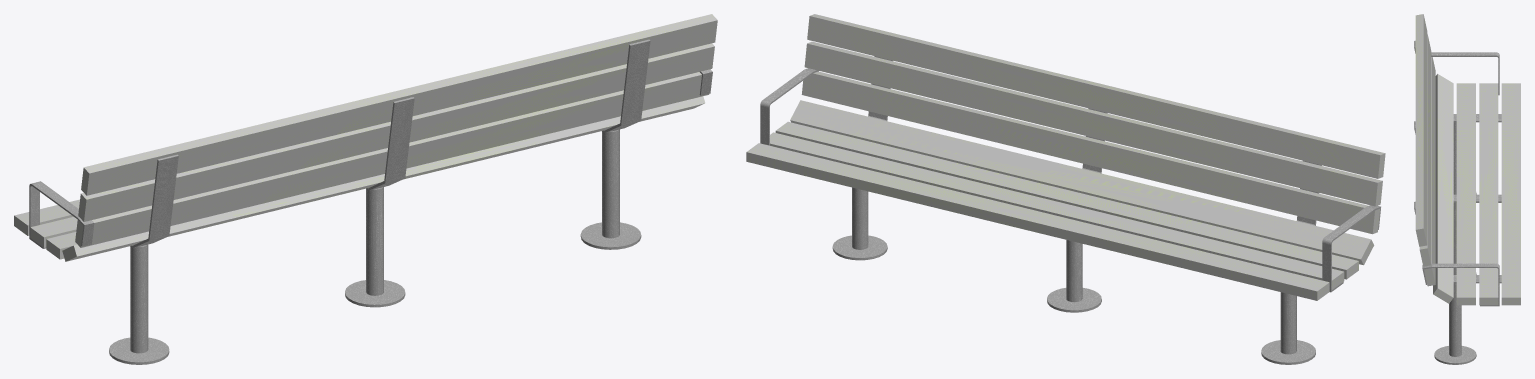
The picture shows the model from 3 angles, left to right: view 1: azimuth 30°, elevation 25°; view 2: azimuth 150°, elevation 25°; view 3: azimuth 270°, elevation 25°; orthographic projection. The views are drawn at different scales.
Visible parts, largest first — view 1: mesh13_mesh13-geometry, mesh7_mesh7-geometry, mesh8_mesh8-geometry, mesh9_mesh9-geometry, mesh3_mesh3-geometry, mesh5_mesh5-geometry, mesh2_mesh2-geometry, mesh6_mesh6-geometry, mesh4_mesh4-geometry, mesh1_mesh1-geometry, mesh16_mesh16-geometry, mesh12_mesh12-geometry (+1 smaller); view 2: mesh13_mesh13-geometry, mesh7_mesh7-geometry, mesh8_mesh8-geometry, mesh9_mesh9-geometry, mesh10_mesh10-geometry, mesh11_mesh11-geometry, mesh12_mesh12-geometry, mesh3_mesh3-geometry, mesh5_mesh5-geometry, mesh2_mesh2-geometry, mesh16_mesh16-geometry, mesh17_mesh17-geometry; view 3: mesh10_mesh10-geometry, mesh11_mesh11-geometry, mesh12_mesh12-geometry, mesh9_mesh9-geometry, mesh13_mesh13-geometry, mesh5_mesh5-geometry, mesh7_mesh7-geometry, mesh8_mesh8-geometry, mesh17_mesh17-geometry, mesh16_mesh16-geometry, mesh3_mesh3-geometry, mesh2_mesh2-geometry (+3 smaller).
Part boxes in pixels (x1,y1,x2,y2): mesh13_mesh13-geometry: (81, 14, 717, 195); mesh7_mesh7-geometry: (78, 43, 714, 221); mesh8_mesh8-geometry: (75, 72, 709, 247); mesh9_mesh9-geometry: (62, 96, 705, 261); mesh3_mesh3-geometry: (109, 244, 169, 364); mesh5_mesh5-geometry: (580, 129, 641, 249); mesh2_mesh2-geometry: (345, 187, 405, 307); mesh6_mesh6-geometry: (602, 39, 650, 132); mesh4_mesh4-geometry: (130, 154, 178, 247); mesh1_mesh1-geometry: (366, 97, 414, 190); mesh16_mesh16-geometry: (29, 181, 94, 248); mesh12_mesh12-geometry: (30, 216, 77, 247); mesh13_mesh13-geometry: (807, 14, 1385, 178); mesh7_mesh7-geometry: (804, 41, 1382, 206); mesh8_mesh8-geometry: (801, 71, 1379, 234); mesh9_mesh9-geometry: (790, 100, 1374, 265); mesh10_mesh10-geometry: (746, 143, 1329, 300); mesh11_mesh11-geometry: (775, 121, 1358, 279); mesh12_mesh12-geometry: (770, 132, 1344, 289); mesh3_mesh3-geometry: (1261, 292, 1315, 364); mesh5_mesh5-geometry: (832, 187, 887, 260); mesh2_mesh2-geometry: (1047, 240, 1101, 312); mesh16_mesh16-geometry: (1322, 205, 1380, 292); mesh17_mesh17-geometry: (760, 68, 818, 145); mesh10_mesh10-geometry: (1501, 83, 1520, 305); mesh11_mesh11-geometry: (1456, 83, 1475, 305); mesh12_mesh12-geometry: (1479, 83, 1498, 305); mesh9_mesh9-geometry: (1433, 74, 1453, 303); mesh13_mesh13-geometry: (1415, 14, 1427, 246); mesh5_mesh5-geometry: (1434, 283, 1476, 364); mesh7_mesh7-geometry: (1419, 34, 1431, 266); mesh8_mesh8-geometry: (1424, 57, 1435, 286); mesh17_mesh17-geometry: (1422, 263, 1499, 306); mesh16_mesh16-geometry: (1431, 52, 1499, 95); mesh3_mesh3-geometry: (1453, 122, 1476, 194); mesh2_mesh2-geometry: (1453, 203, 1476, 274).
Size of the model in its own units: 0.919 by 0.3082 by 0.1932.
